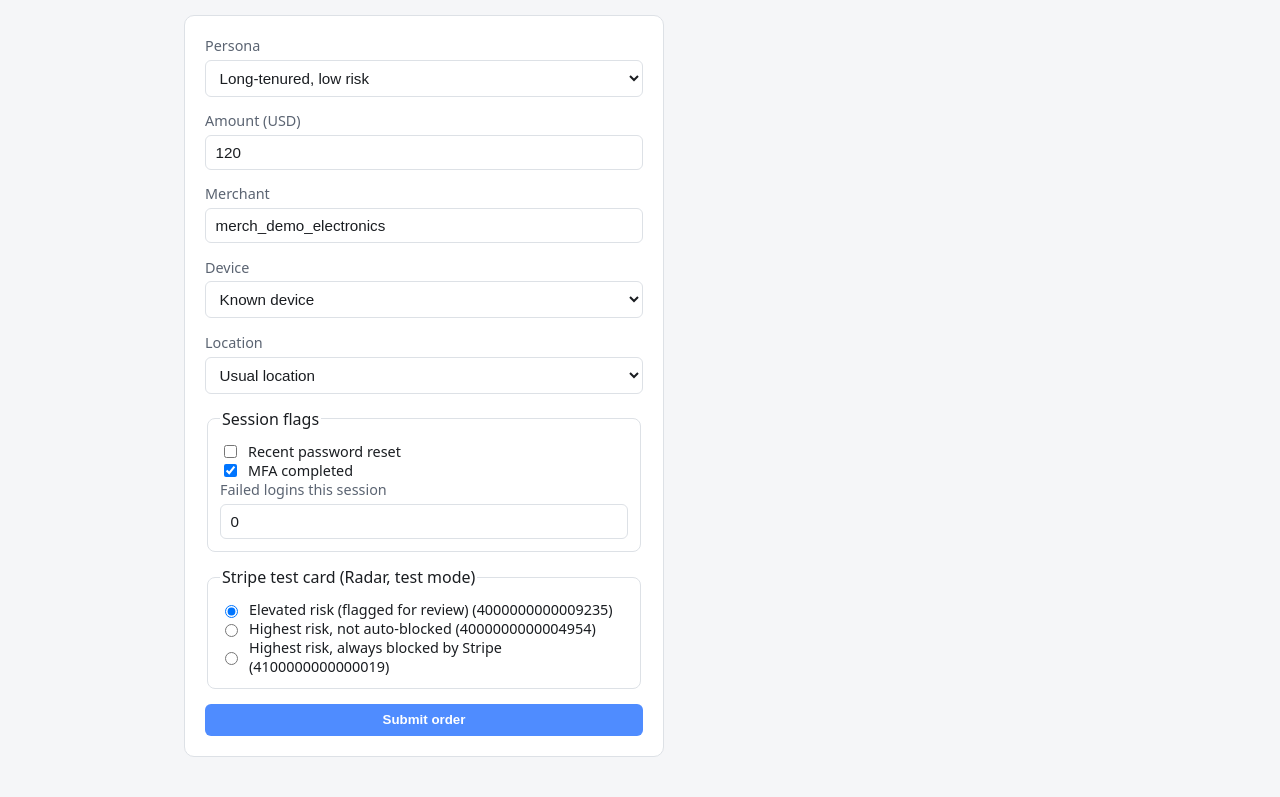
it: Checkout › renders a success banner and only the fields present on the response
(page scrolled)
Click the button "Submit order" at [424, 720], box [205,704,643,736]
(page scrolled)
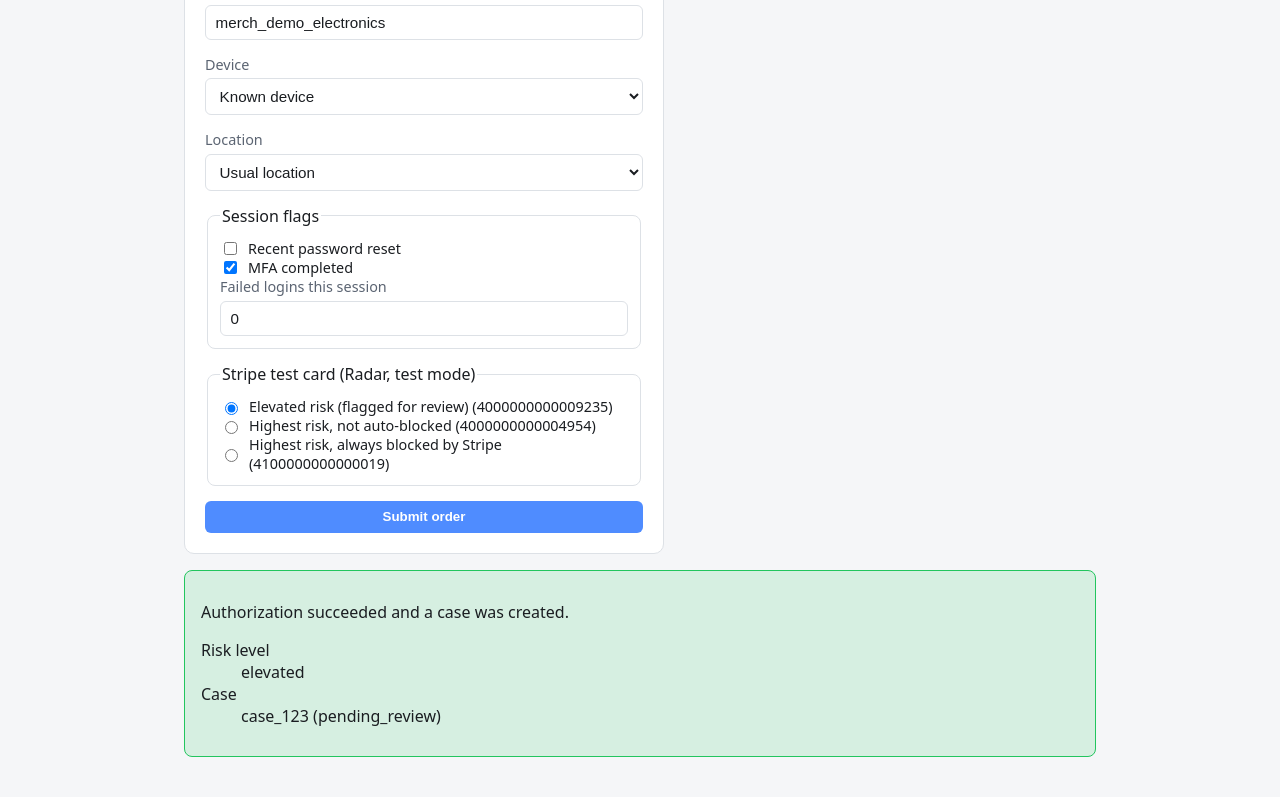
Check: the text "Risk level" is shown, box [201,639,270,661]
Check: the text "elevated" is shown, box [241,661,305,683]
Check: the text "Case" is shown, box [201,683,237,705]
